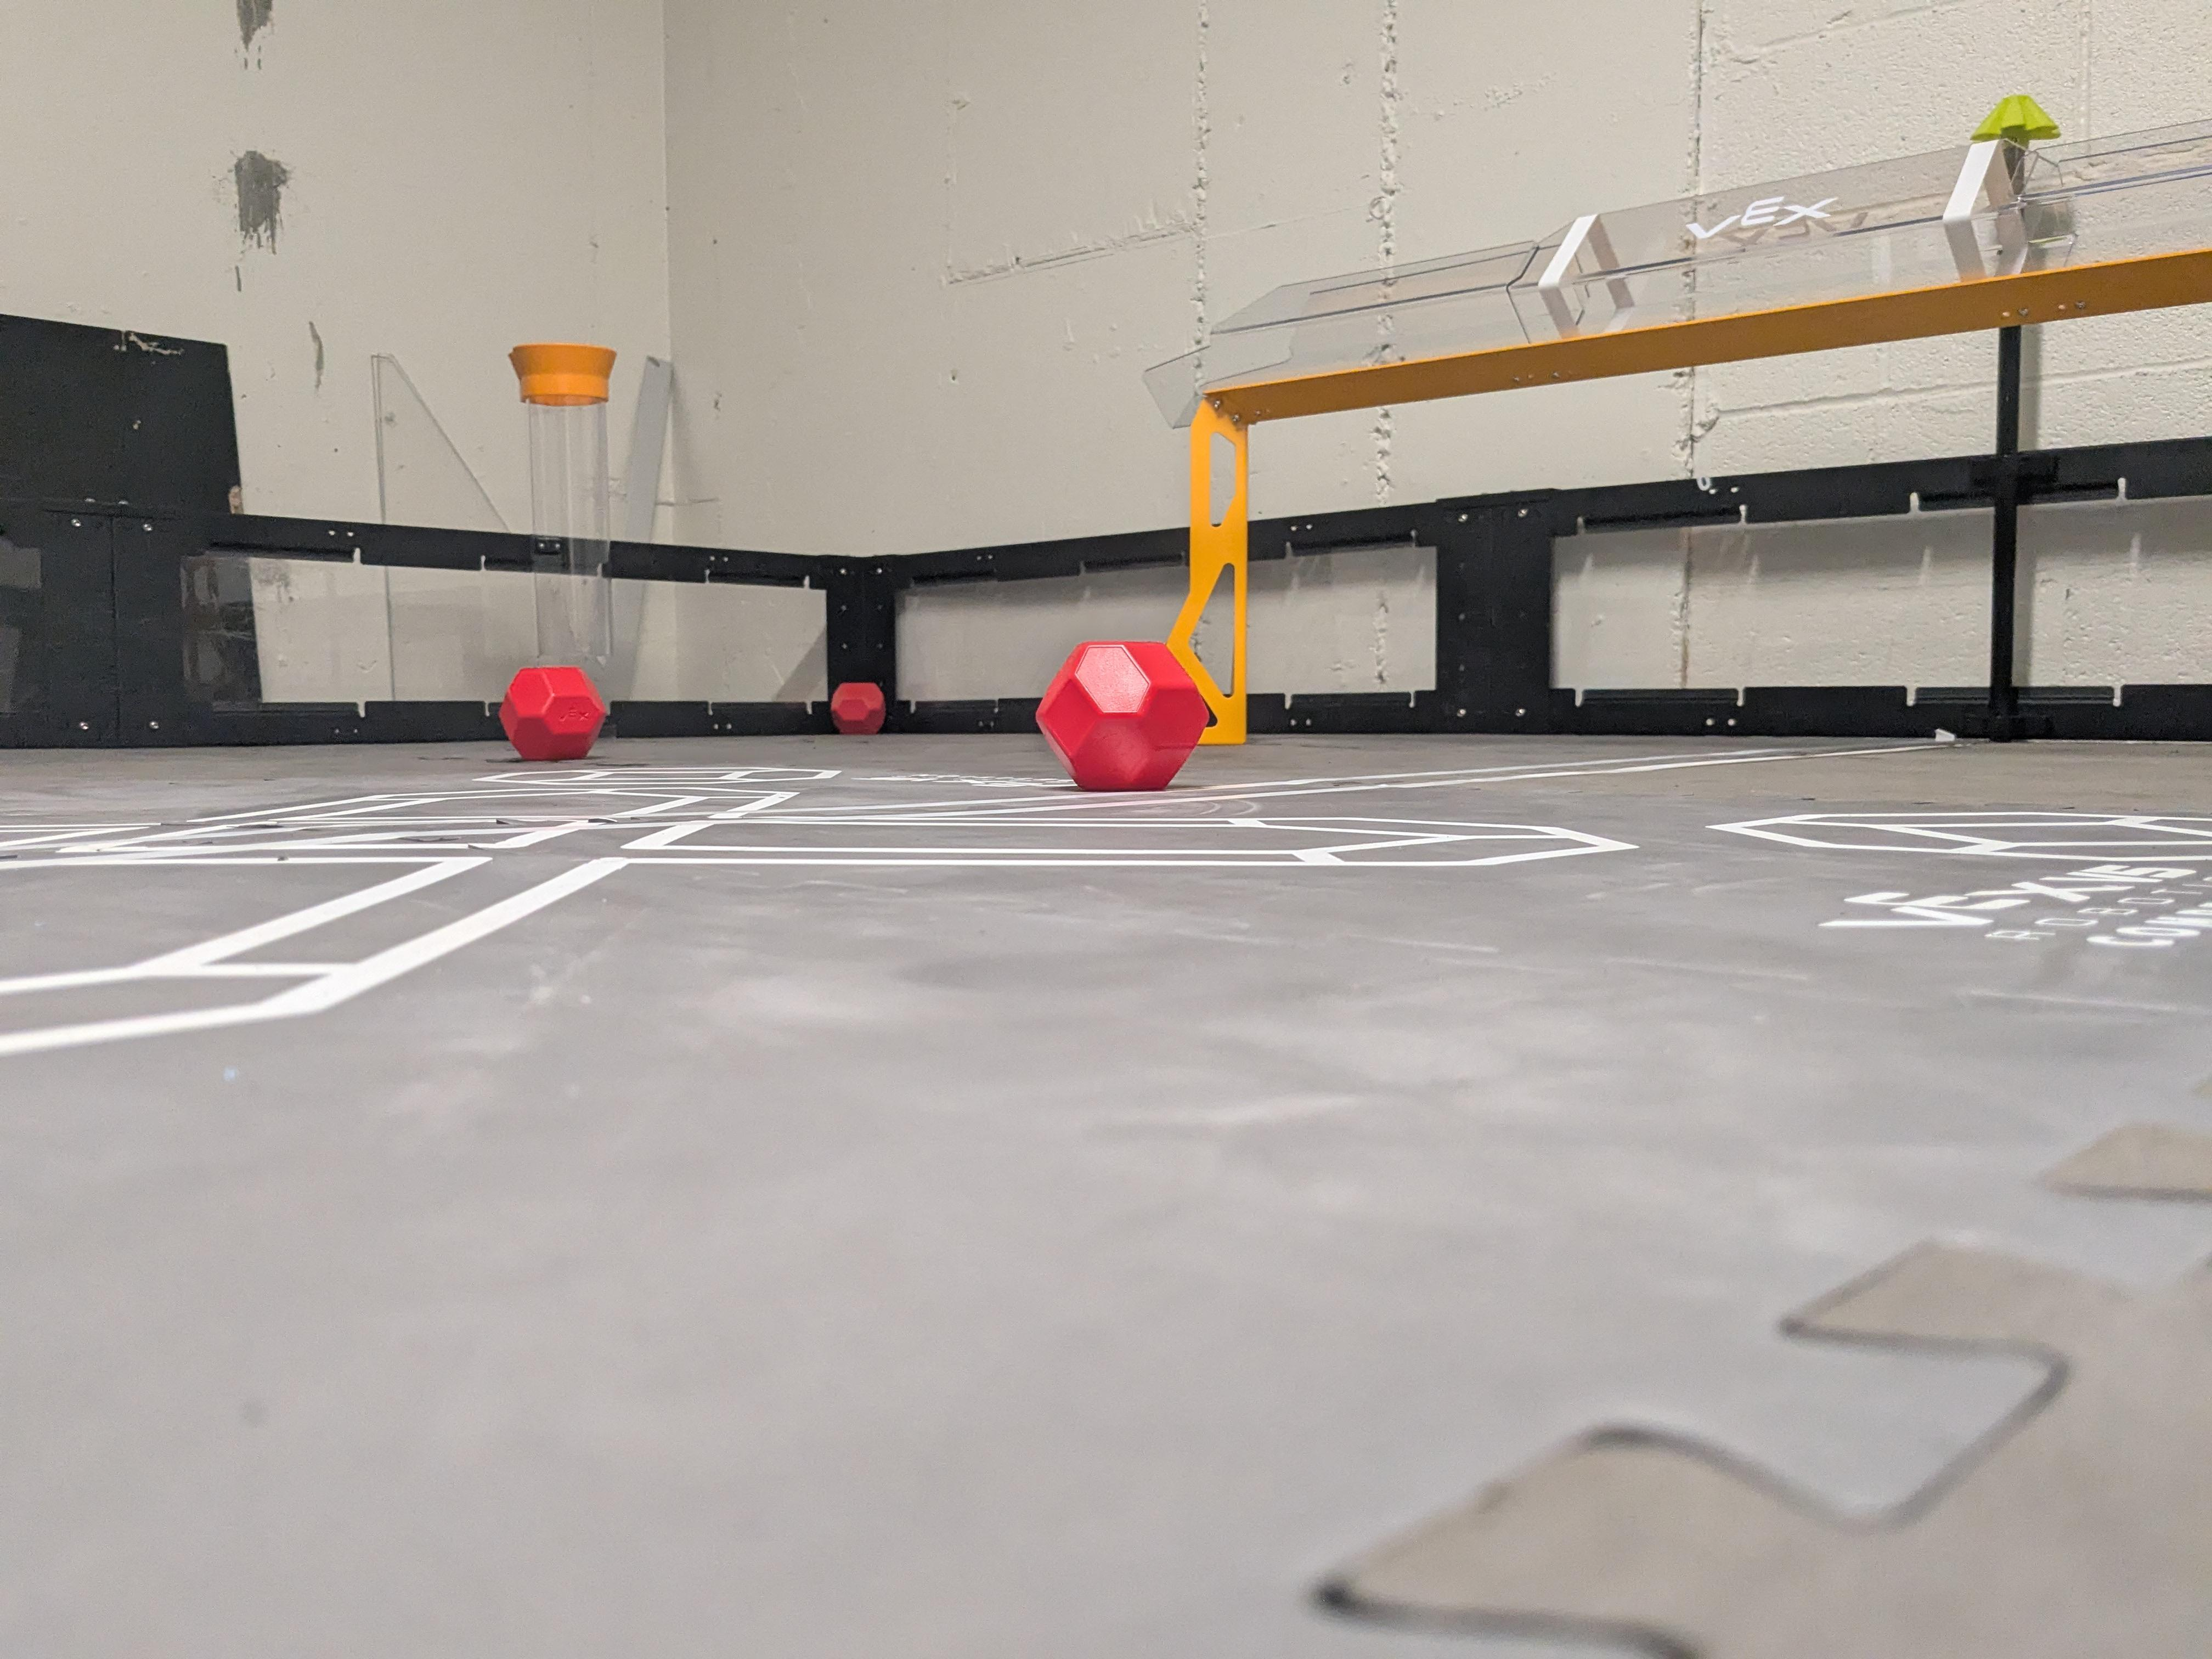Vex-Pieces-RED: (1040, 643, 1205, 784), (500, 666, 606, 760), (829, 681, 887, 735)
